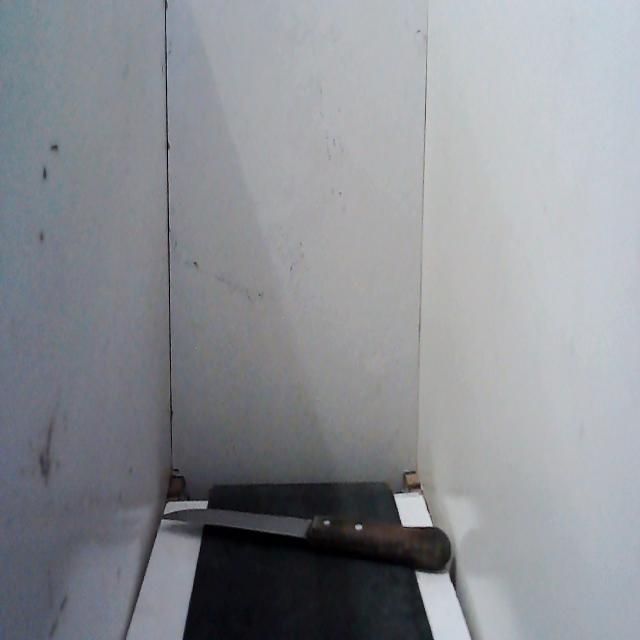metal: (157, 495, 313, 555)
